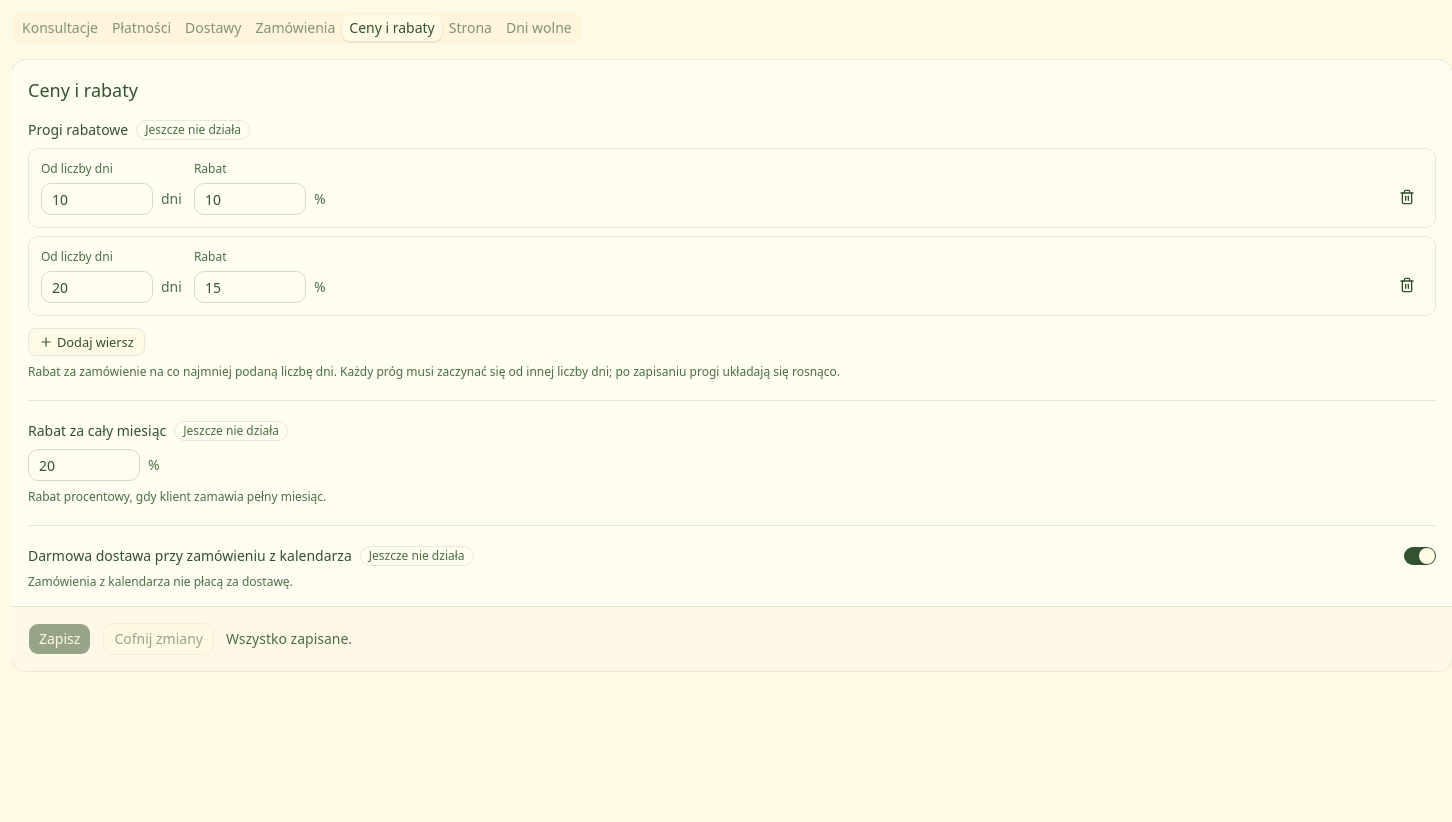
Scenario: SettingsForm (generated from the registry schema) › a 422 inside a list lands on the row and column it names
Replace the text in the 2nd field labelled "Rabat" with "99" at [250, 287], box [194,271,306,303]
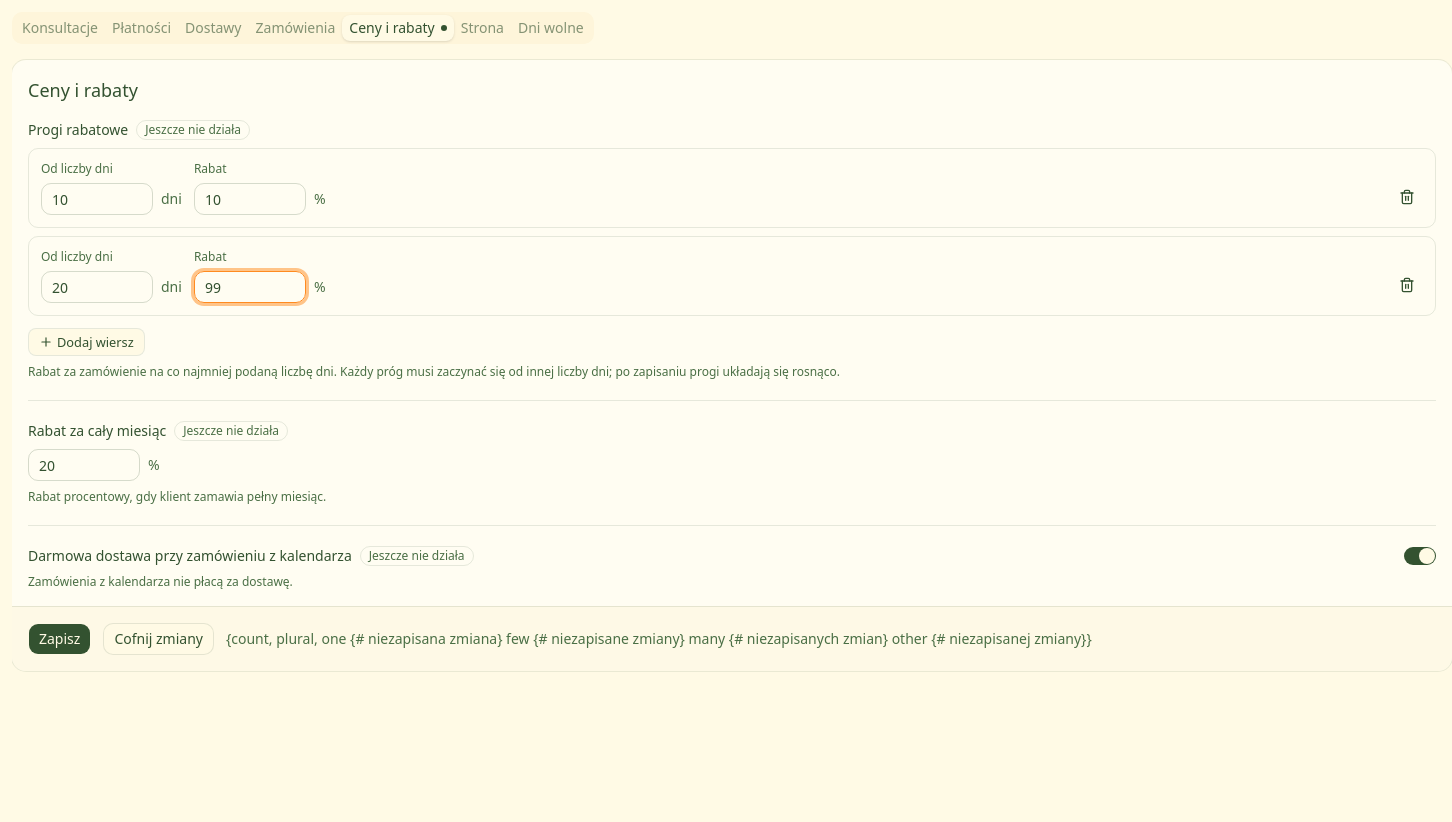
Click the button with test id "settings-save-pricing" at [60, 639], box [28,623,91,655]
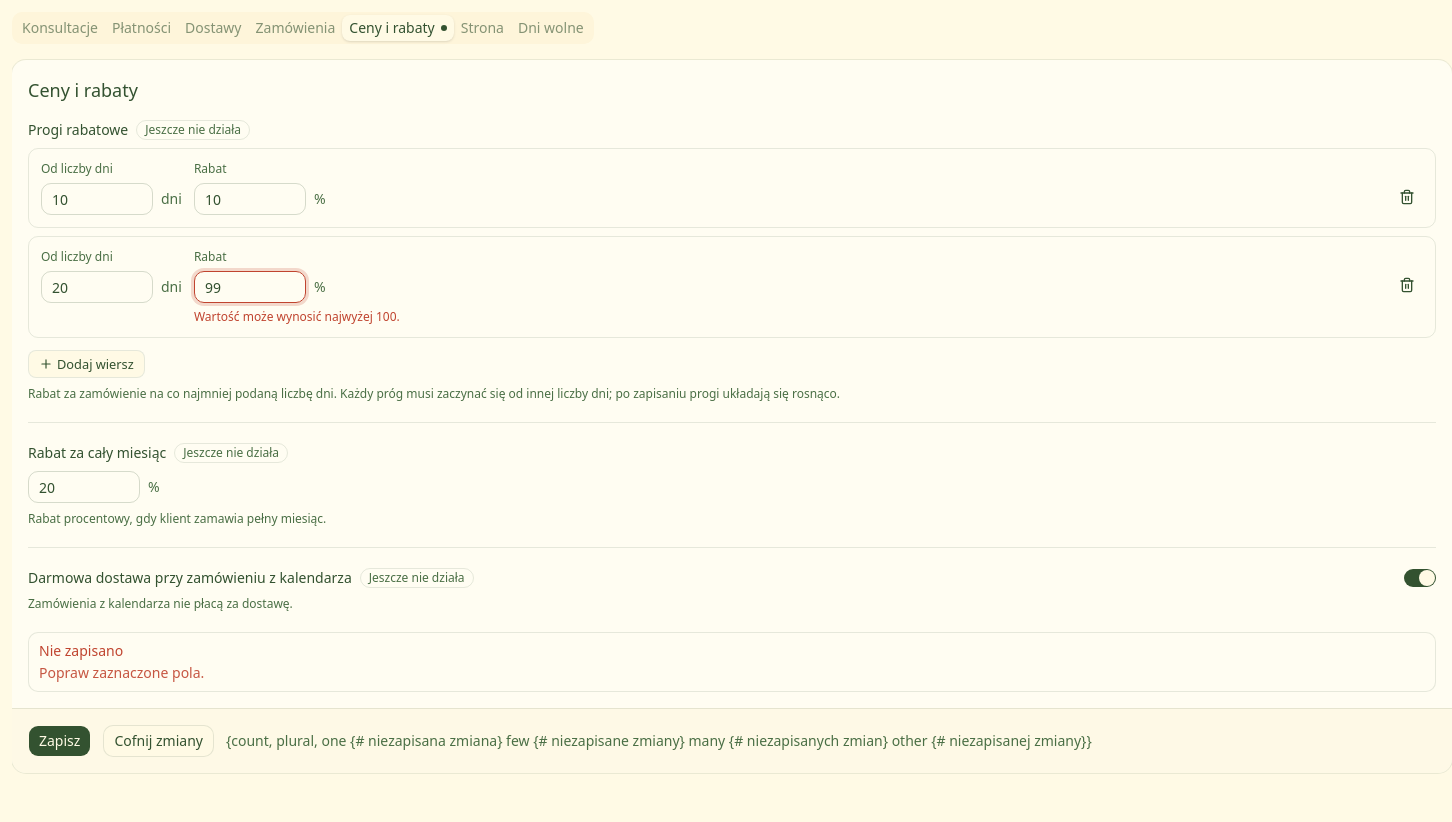
expect the text "Wartość może wynosić najwyżej 100." is shown: met, box [194,309,400,325]
